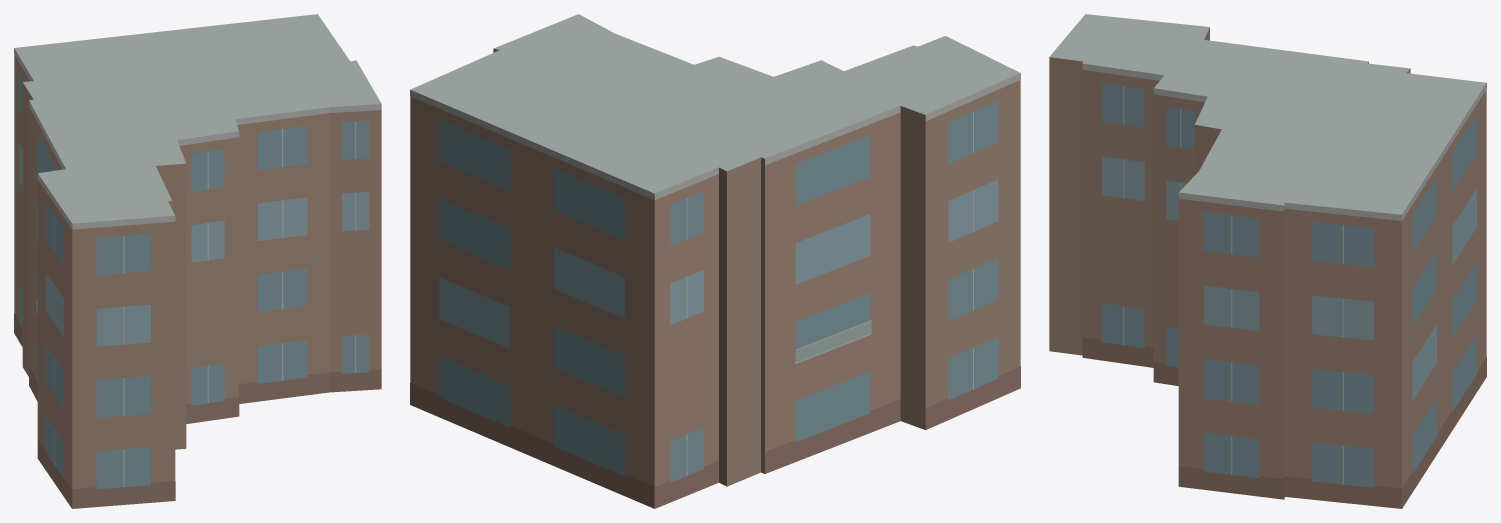
The model's file is survey-upis-33021116.glb.
The picture shows the model from 3 angles, left to right: view 1: azimuth 30°, elevation 25°; view 2: azimuth 150°, elevation 25°; view 3: azimuth 270°, elevation 25°; orthographic projection. The views are drawn at different scales.
Parts seen in each view (by area): view 1: survey-upis-33021116.tmp; view 2: survey-upis-33021116.tmp; view 3: survey-upis-33021116.tmp.
Part boxes in pixels (x1,y1,x2,y2): survey-upis-33021116.tmp: (14, 14, 381, 508); survey-upis-33021116.tmp: (410, 14, 1020, 508); survey-upis-33021116.tmp: (1049, 14, 1486, 508).
Size of the model in its own units: 17.13 by 11.69 by 15.78.
